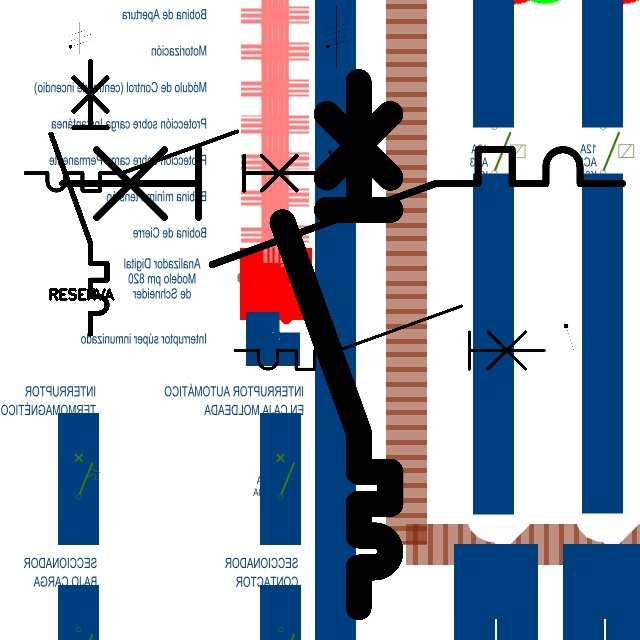interruptor_termomagnetico: (48, 135, 637, 279), (269, 68, 404, 621), (227, 298, 552, 377), (18, 124, 321, 198), (44, 54, 114, 341)
